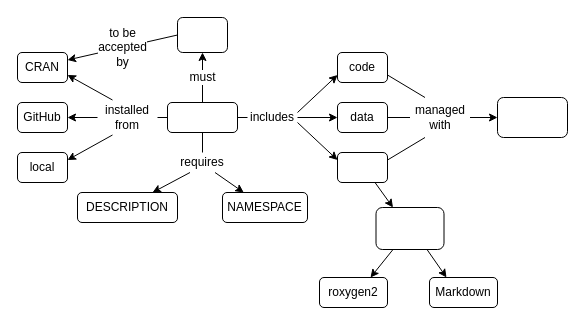
Some shapes in this 585 by 325 pixel diagram are drawn without their labels. The centre of each missing label's shape, as x and y in pixels:
can be written in: the point at 409,228
devtools usethis: the point at 532,117
docs: the point at 362,167
package: the point at 202,117
pass checks: the point at 202,34
